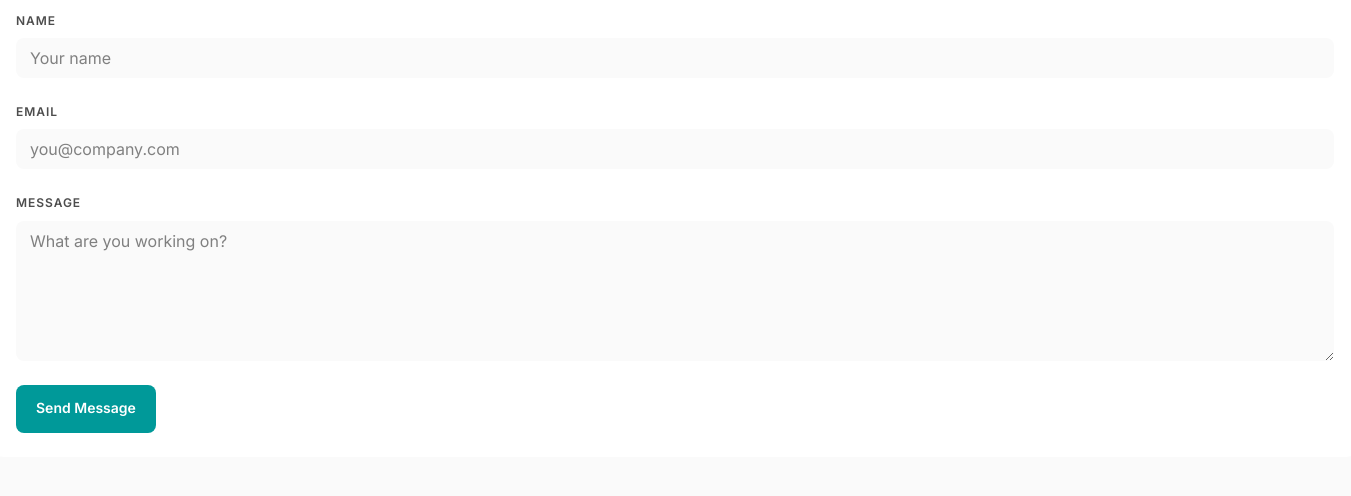
Test: ContactForm - SPEC-021 acceptance criteria › AC6: 500 response shows form-level error
This screenshot has width=1351, height=496.
Type "Jane Smith" into the field labelled "Name" at coordinates (675, 58), box left=16, top=38, right=1334, bottom=78
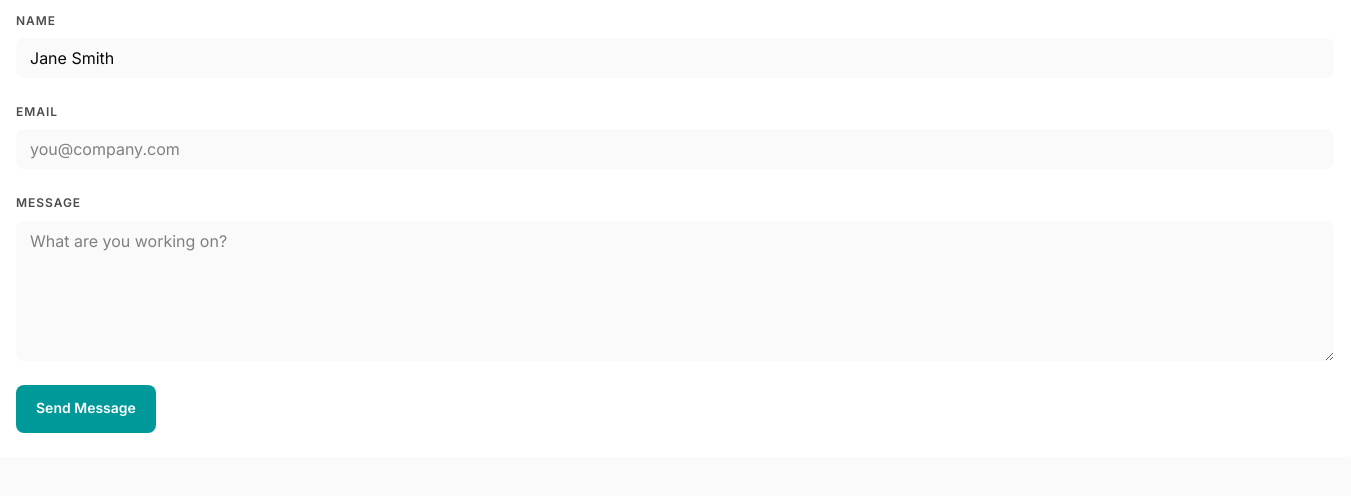
Type "jane@example.com" into the field labelled "Email" at coordinates (675, 149), box left=16, top=129, right=1334, bottom=169
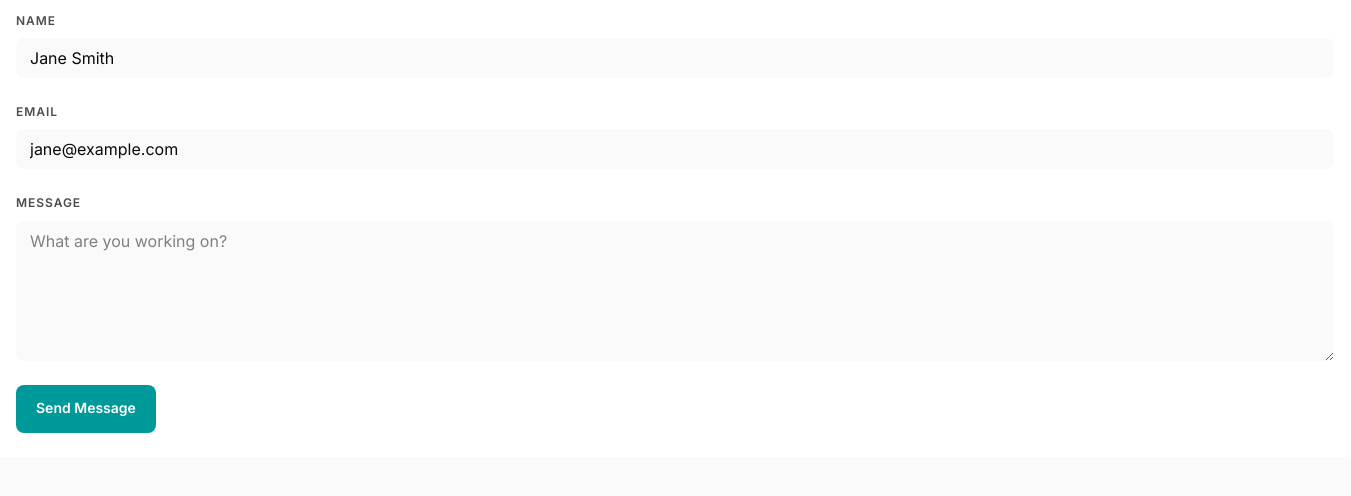
Type "Hello, I would like to discuss a project with you." into the text box labelled "Message" at coordinates (675, 291), box left=16, top=221, right=1334, bottom=361
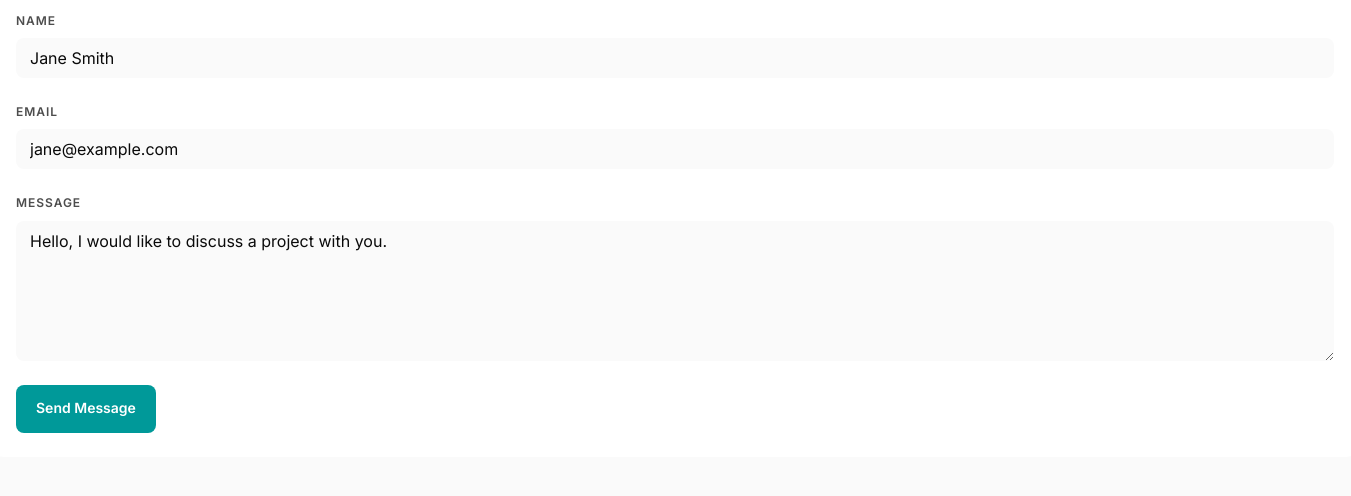
Click the button "Send Message" at coordinates (86, 409), box left=16, top=385, right=156, bottom=433
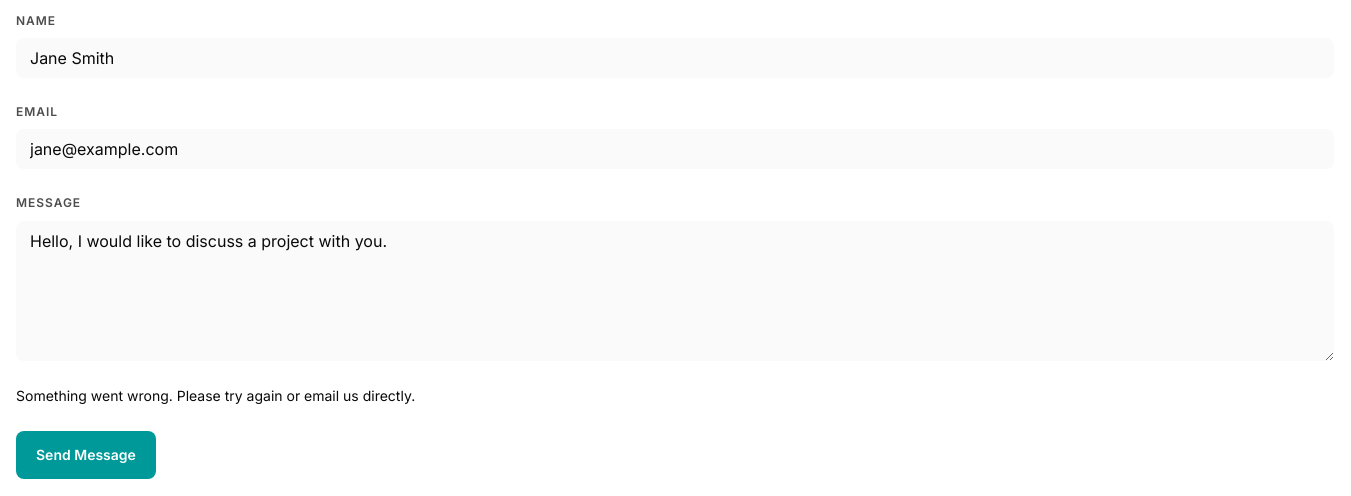
Expected: the text "Something went wrong. Please try again or email us directly." is shown, left=16, top=387, right=415, bottom=404
